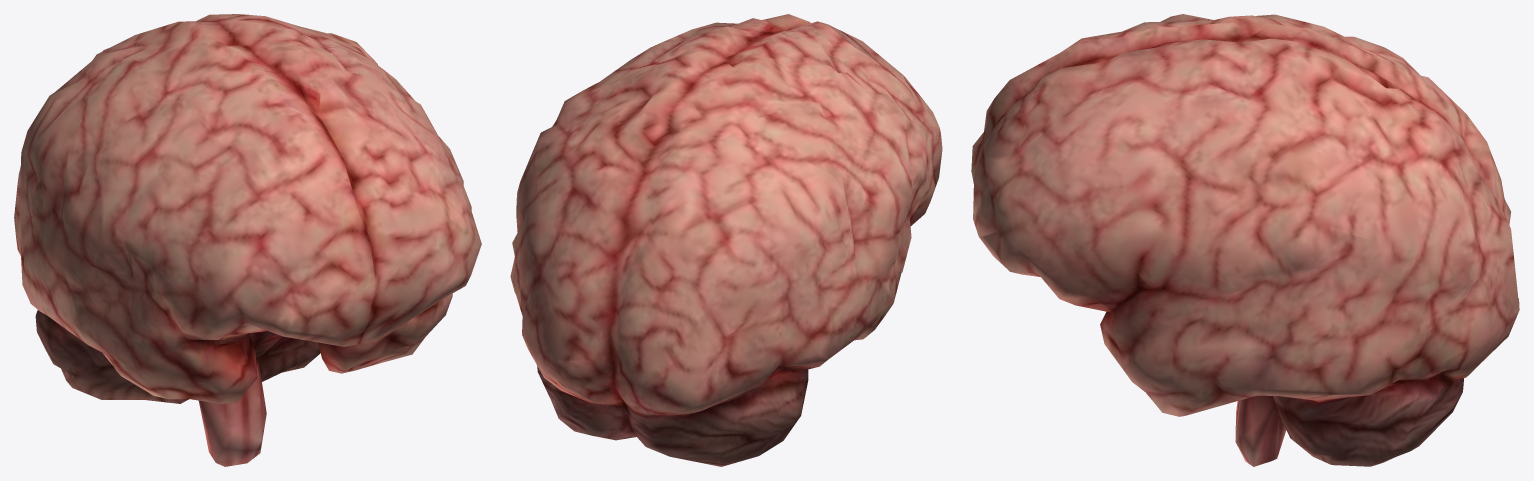
Rendered from PRP_BrainModel_lod.glb.
3 renders of one model, left to right at view 1: azimuth 30°, elevation 25°; view 2: azimuth 150°, elevation 25°; view 3: azimuth 270°, elevation 25°, orthographic. The views are drawn at different scales.
Parts seen in each view (by area): view 1: Object_5; view 2: Object_5; view 3: Object_5.
Boxes of the visible parts, left/top/right/bottom form: Object_5: left=14, top=14, right=481, bottom=466; Object_5: left=510, top=14, right=942, bottom=466; Object_5: left=971, top=14, right=1519, bottom=466.
Size of the model in its own units: 0.7607 by 0.8537 by 0.991.
1 material, 1 textured.
